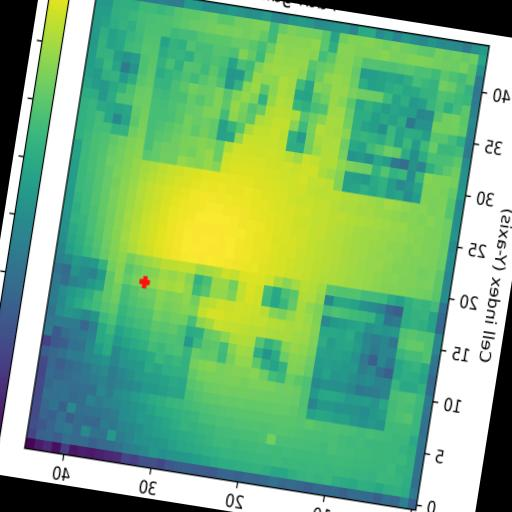Concrete: (140, 24, 240, 172)
Glass: (341, 58, 442, 204)
Metal: (104, 252, 206, 400)
Wood: (304, 296, 402, 431)
